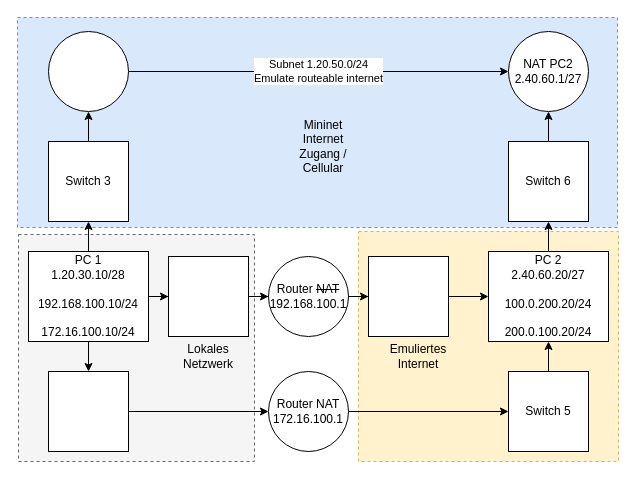
This 636x479 diagram has some shape labels left out. The shapes that lost their labels are listed below. From the top down, each one's centre as x and y in pixels, then its label:
At point (88, 71): "NAT PC1 1.20.30.1/28".
At point (208, 296): "Switch 1".
At point (408, 296): "Switch 4".
At point (88, 411): "Switch 2".
